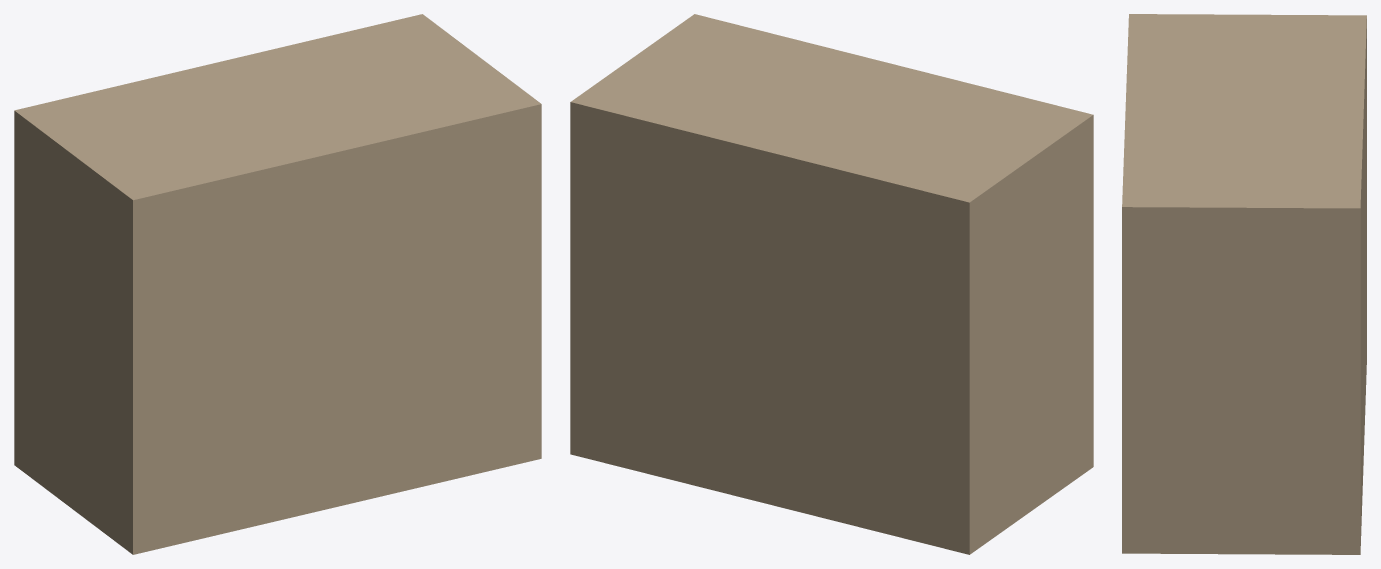
File: bld_164606014.dae
The picture shows the model from 3 angles, left to right: view 1: azimuth 30°, elevation 25°; view 2: azimuth 150°, elevation 25°; view 3: azimuth 270°, elevation 25°; orthographic projection. The views are drawn at different scales.
Visible parts, largest first — view 1: bld_164606014; view 2: bld_164606014; view 3: bld_164606014.
Boxes of the visible parts, left/top/right/bottom form: bld_164606014: left=14, top=14, right=541, bottom=554; bld_164606014: left=570, top=14, right=1093, bottom=554; bld_164606014: left=1122, top=14, right=1366, bottom=554.
Bounding box in the file's own units: 9.63 × 5.12 × 8.
